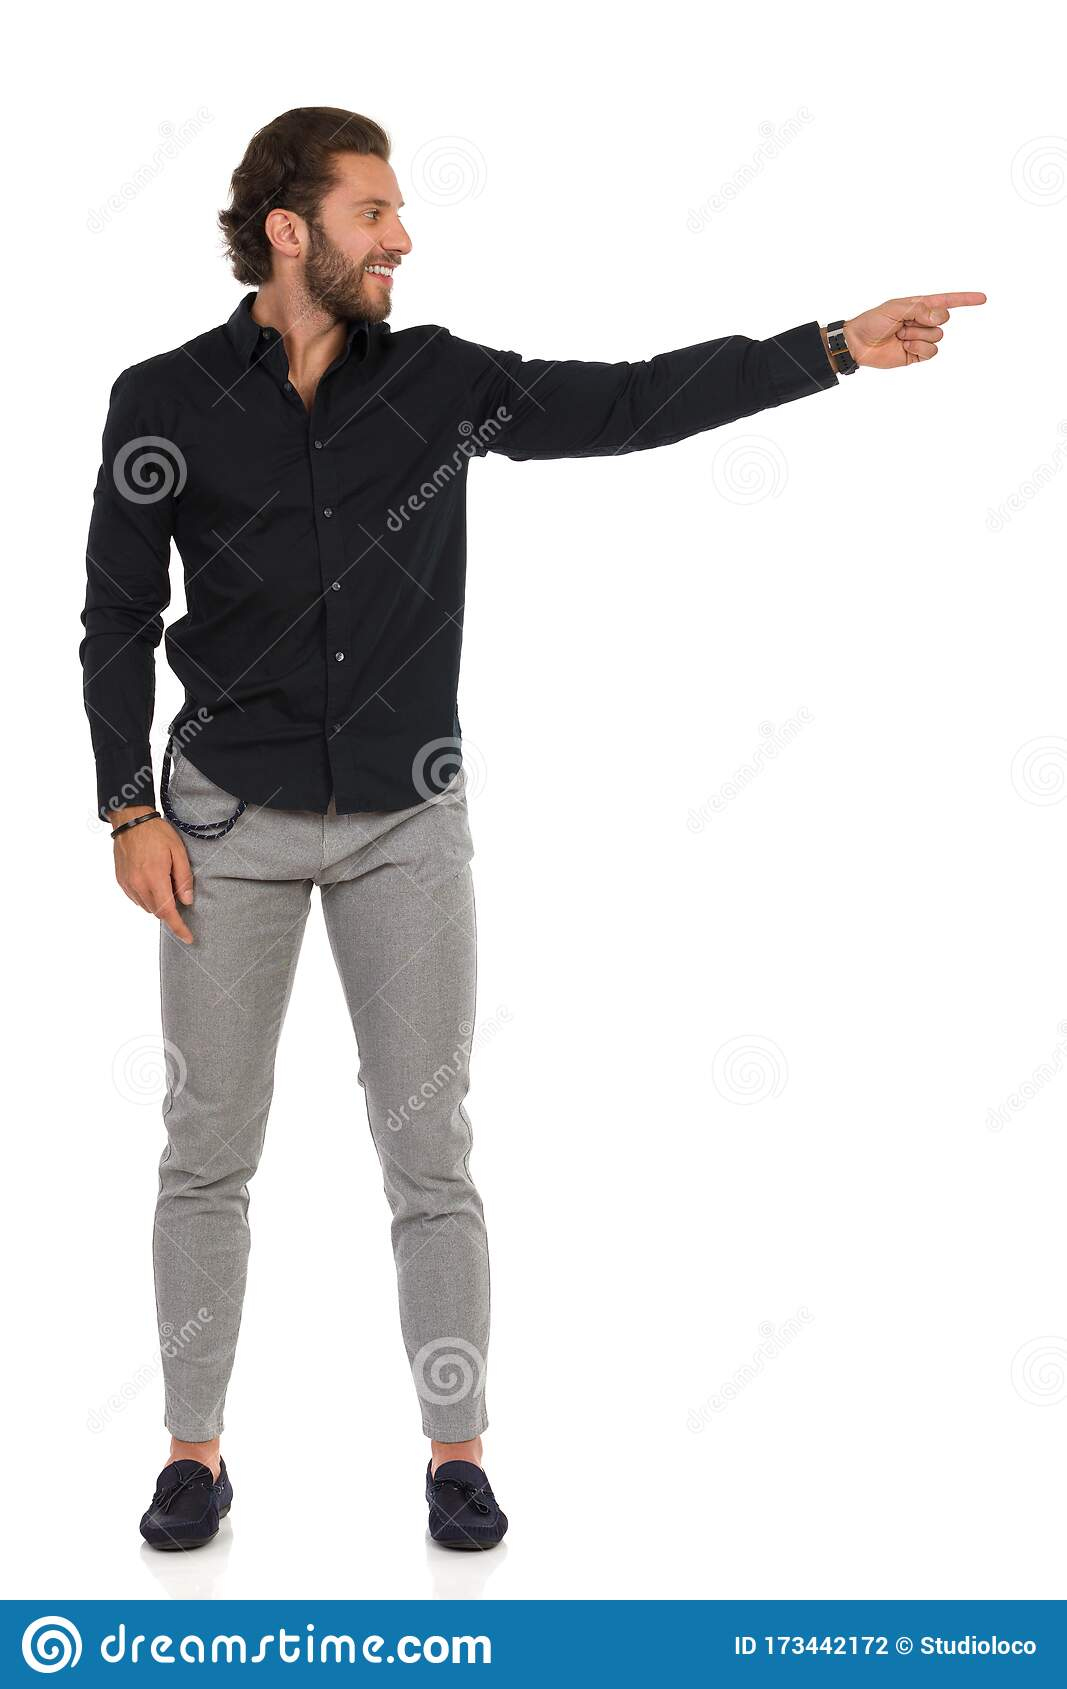person: (75, 104, 996, 1552)
